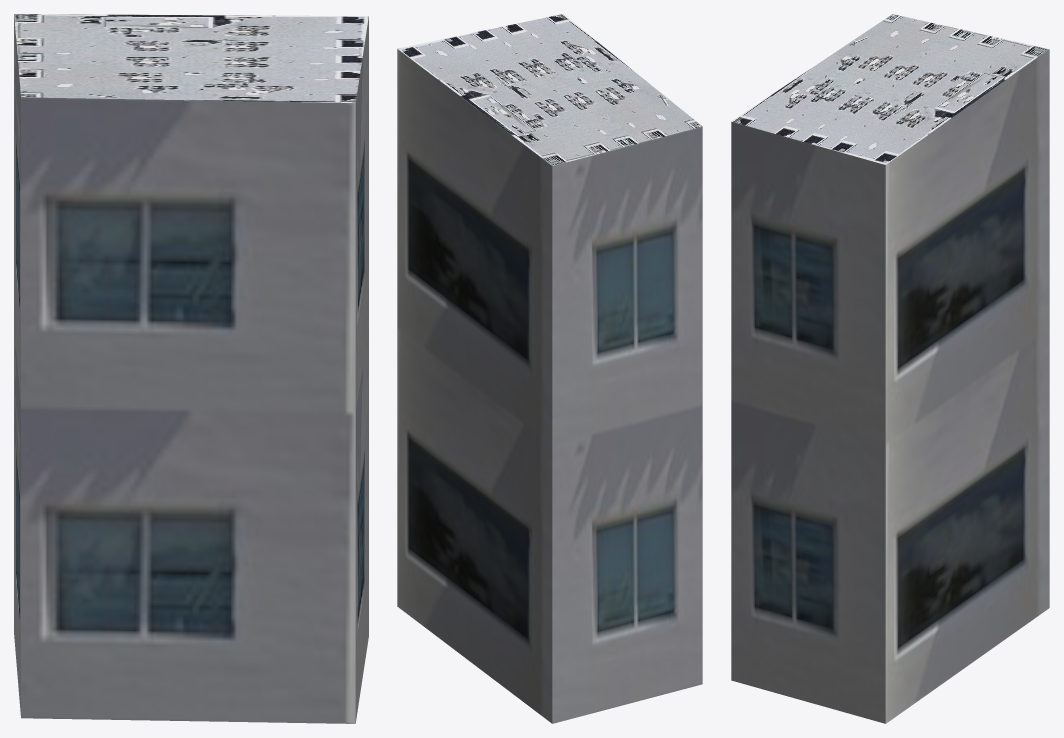
The model's file is ResTex__1815.fbx.
3 views of the same model, side by side, from view 1: azimuth 30°, elevation 25°; view 2: azimuth 150°, elevation 25°; view 3: azimuth 270°, elevation 25° (orthographic). The views are drawn at different scales.
Visible parts, largest first — view 1: CityEngineMaterial_10_m, CityEngineMaterial_m; view 2: CityEngineMaterial_10_m, CityEngineMaterial_m; view 3: CityEngineMaterial_10_m, CityEngineMaterial_m.
Part boxes in pixels (x1,y1,x2,y2): CityEngineMaterial_10_m: [14, 14, 368, 723]; CityEngineMaterial_m: [14, 14, 368, 102]; CityEngineMaterial_10_m: [397, 49, 702, 723]; CityEngineMaterial_m: [397, 14, 702, 166]; CityEngineMaterial_10_m: [731, 49, 1049, 723]; CityEngineMaterial_m: [732, 14, 1048, 164].
Bounding box in the file's own units: 3.48 × 6 × 3.09.
Materials: 2 (2 with a texture image).
